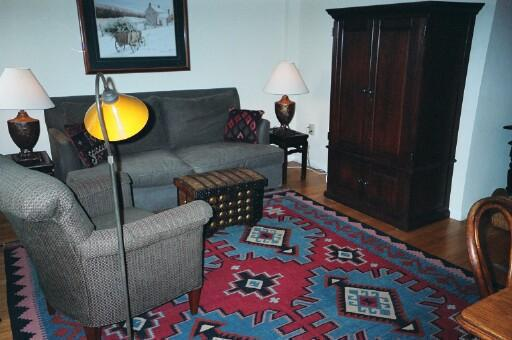Armario: (329, 7, 456, 232)
Otro Obstaculo: (89, 73, 164, 335)
